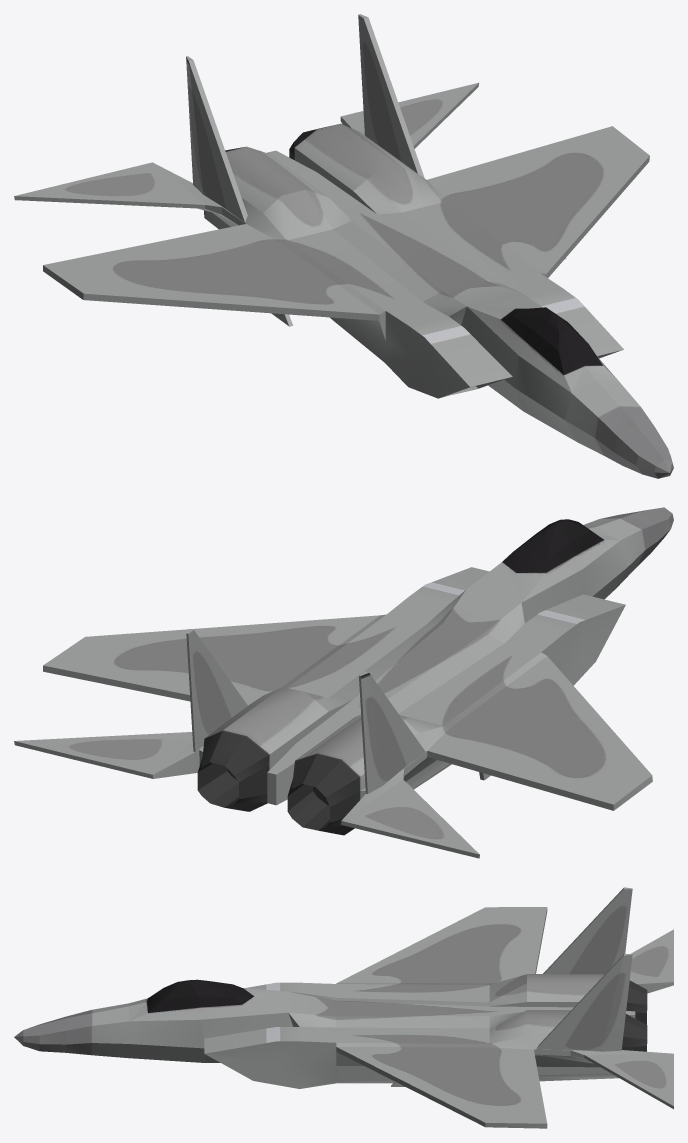
The picture shows the model from 3 angles, top to bottom: view 1: azimuth 30°, elevation 25°; view 2: azimuth 150°, elevation 25°; view 3: azimuth 270°, elevation 25°; orthographic projection. The views are drawn at different scales.
Visible parts, largest first — view 1: Jet_01_Body; view 2: Jet_01_Body; view 3: Jet_01_Body.
Boxes of the visible parts, x1=… form: Jet_01_Body: x1=14, y1=14, x2=673, y2=478; Jet_01_Body: x1=14, y1=507, x2=673, y2=858; Jet_01_Body: x1=14, y1=887, x2=673, y2=1128.
Bounding box in the file's own units: 1.53 × 0.4569 × 1.97.
Materials: 1 (1 with a texture image).
